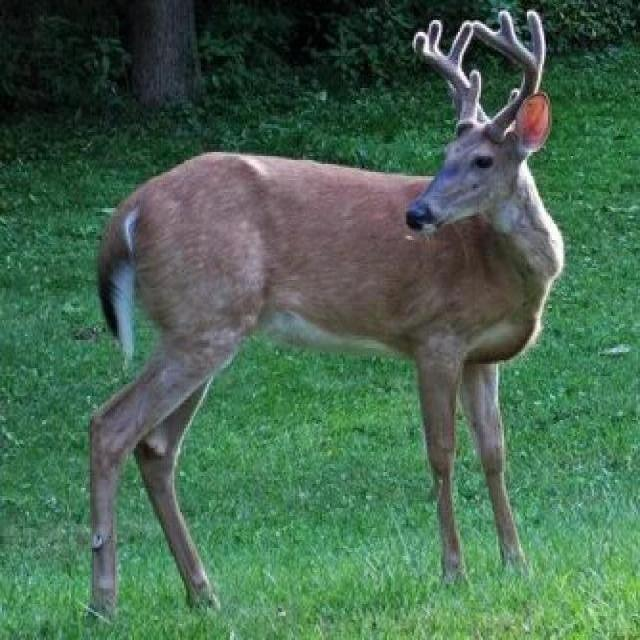deer: (73, 13, 589, 592)
